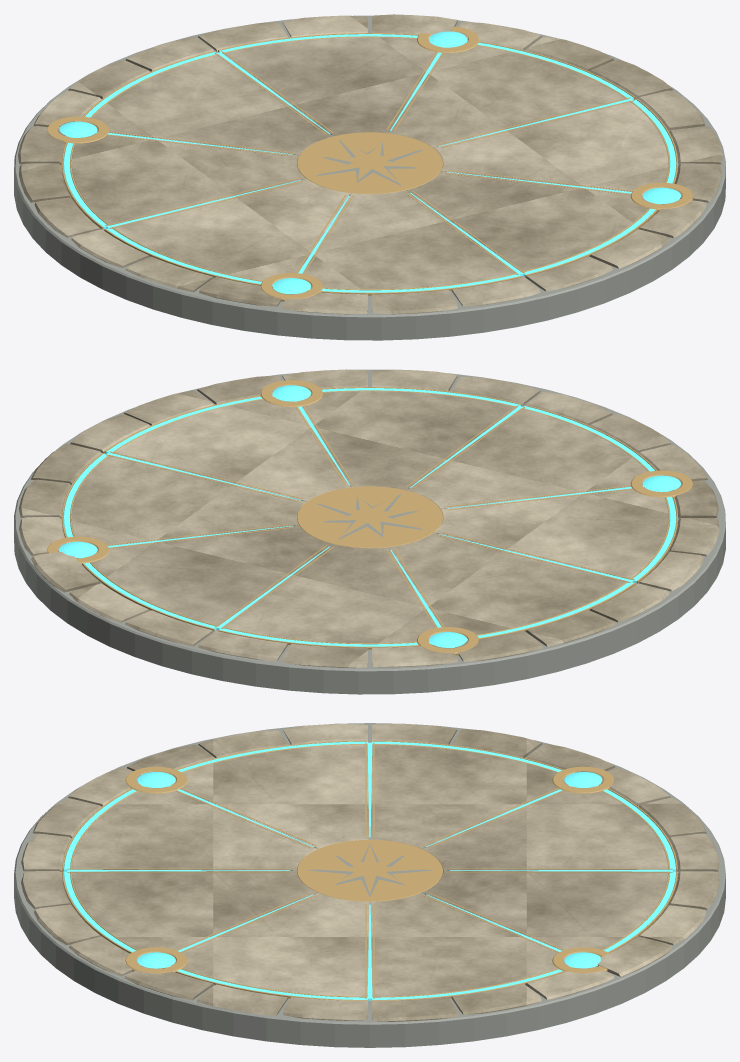
The model's file is arrival-dais-v05.glb.
The picture shows the model from 3 angles, top to bottom: view 1: azimuth 30°, elevation 25°; view 2: azimuth 150°, elevation 25°; view 3: azimuth 270°, elevation 25°; orthographic projection.
Visible parts, largest first — view 1: Arrival_Weathered, Arrival_Recessed, Arrival_Aged, Arrival_Seated; view 2: Arrival_Weathered, Arrival_Recessed, Arrival_Aged, Arrival_Seated; view 3: Arrival_Weathered, Arrival_Recessed, Arrival_Aged, Arrival_Seated.
Boxes of the visible parts, x1,y1,x2,y2 form: Arrival_Weathered: [18, 14, 722, 314]; Arrival_Recessed: [14, 15, 725, 340]; Arrival_Aged: [47, 26, 692, 301]; Arrival_Seated: [59, 31, 680, 294]; Arrival_Weathered: [19, 369, 719, 667]; Arrival_Recessed: [14, 369, 725, 694]; Arrival_Aged: [47, 380, 692, 655]; Arrival_Seated: [59, 385, 680, 647]; Arrival_Weathered: [21, 723, 719, 1021]; Arrival_Recessed: [14, 723, 725, 1047]; Arrival_Aged: [62, 740, 677, 1000]; Arrival_Seated: [64, 741, 675, 1000].
Size of the model in its own units: 5.28 by 0.254 by 5.28.
4 materials, 1 textured.
